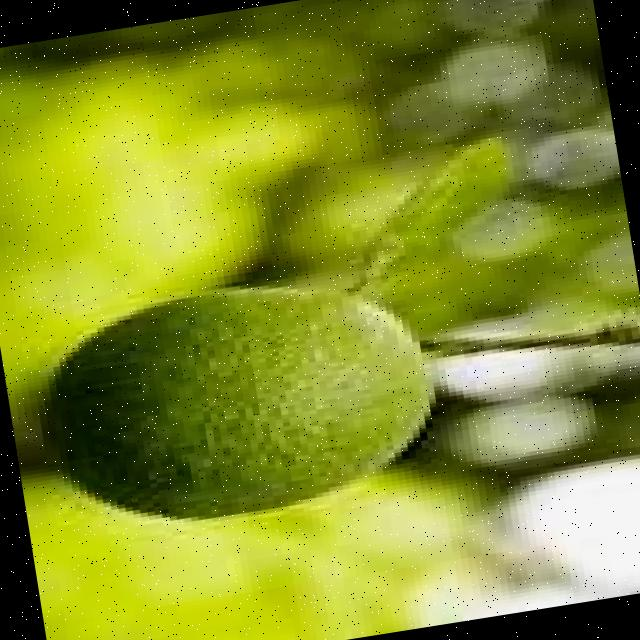Unripe: (28, 256, 458, 548)
